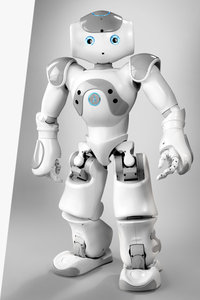nao: (21, 6, 198, 292)
